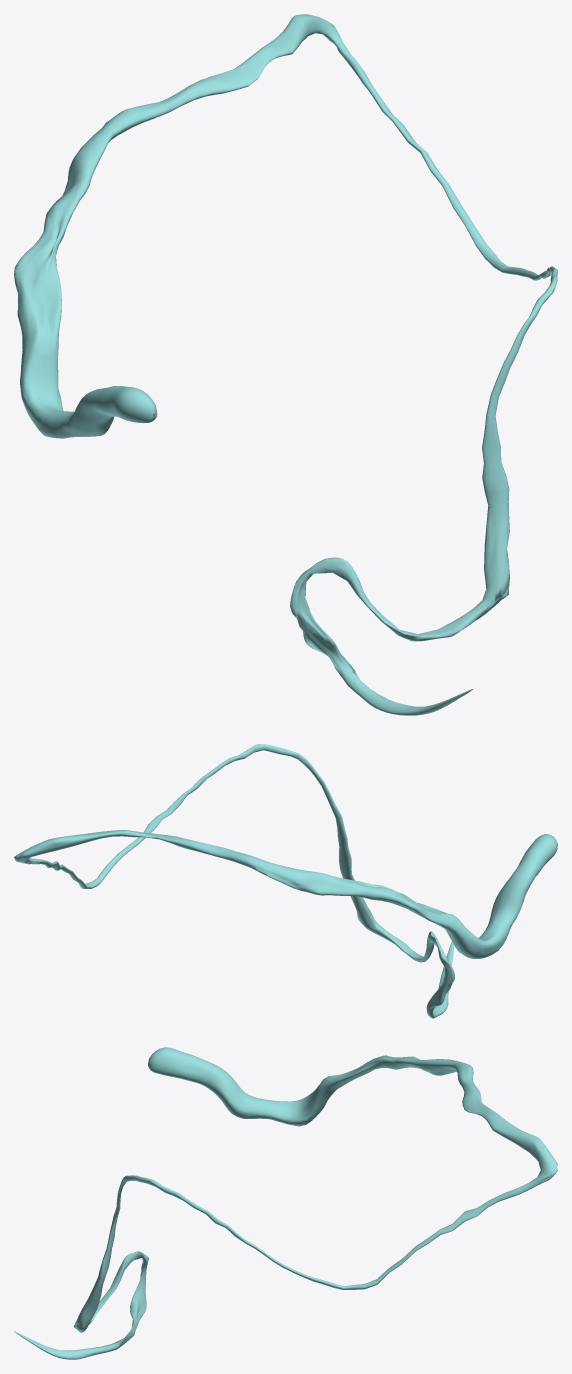
Rendered from Colon5_Lumen.fbx.
The picture shows the model from 3 angles, top to bottom: view 1: azimuth 30°, elevation 25°; view 2: azimuth 150°, elevation 25°; view 3: azimuth 270°, elevation 25°; orthographic projection. The views are drawn at different scales.
Visible parts, largest first — view 1: Colon5_Lumen; view 2: Colon5_Lumen; view 3: Colon5_Lumen.
Part boxes in pixels (x1,y1,x2,y2): Colon5_Lumen: (14,14,557,715); Colon5_Lumen: (14,744,557,1018); Colon5_Lumen: (14,1047,557,1359).
Bounding box in the file's own units: 190 × 147 × 242.
